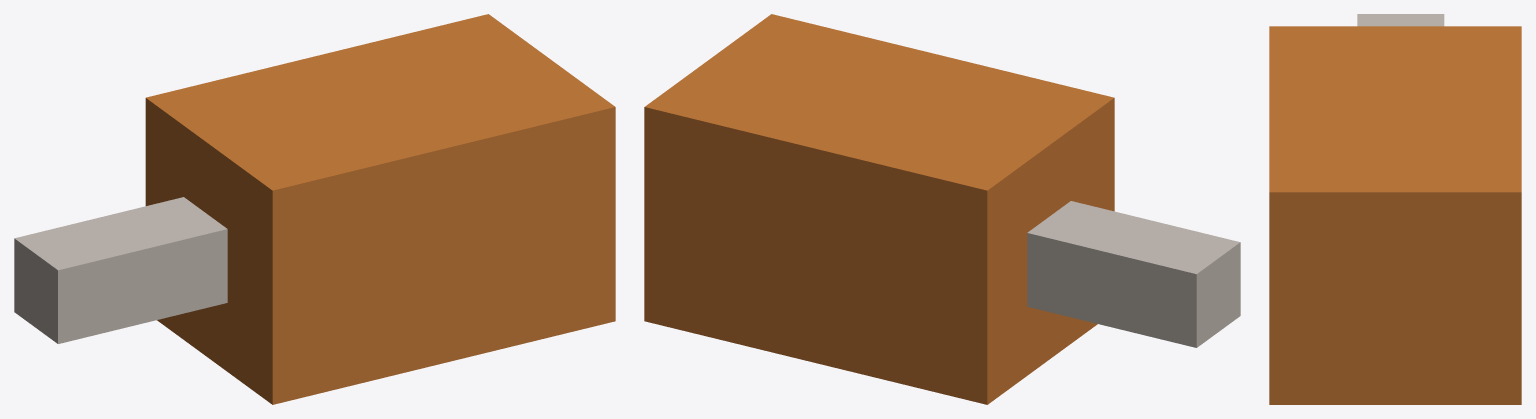
File: Drumstick.fbx
3 renders of one model, left to right at view 1: azimuth 30°, elevation 25°; view 2: azimuth 150°, elevation 25°; view 3: azimuth 270°, elevation 25°, orthographic.
Parts seen in each view (by area): view 1: polySurface31; view 2: polySurface31; view 3: polySurface31.
Boxes of the visible parts, x1,y1,x2,y2 form: polySurface31: [14, 14, 615, 404]; polySurface31: [644, 14, 1240, 404]; polySurface31: [1269, 14, 1521, 404].
Size of the model in its own units: 86.68 by 34.59 by 37.16.
